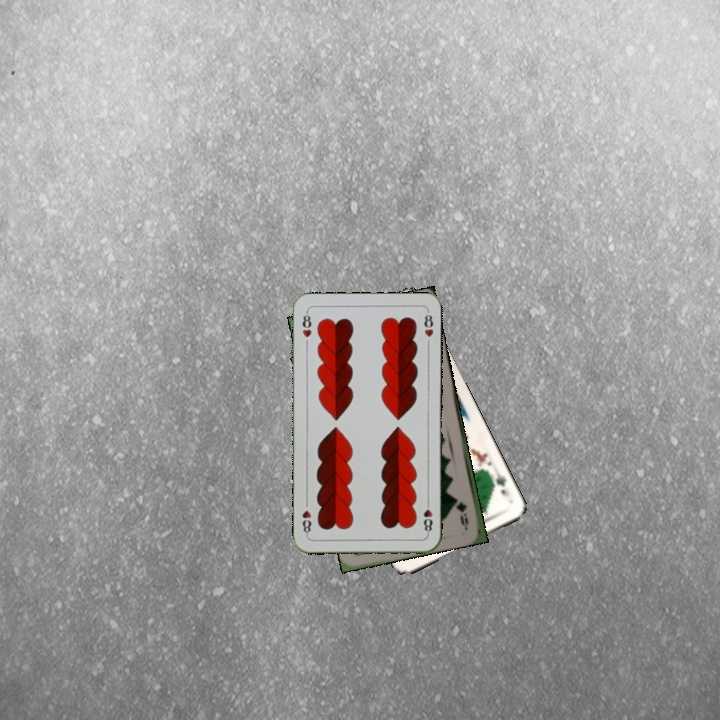G9: (454, 498, 471, 527)
GK: (487, 469, 512, 499)
H8: (420, 496, 435, 537), (298, 308, 314, 340)
